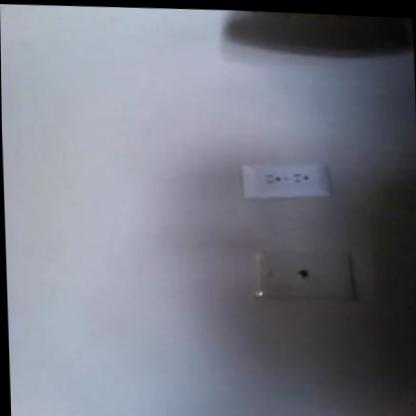OUTLET: (240, 159, 329, 200)
